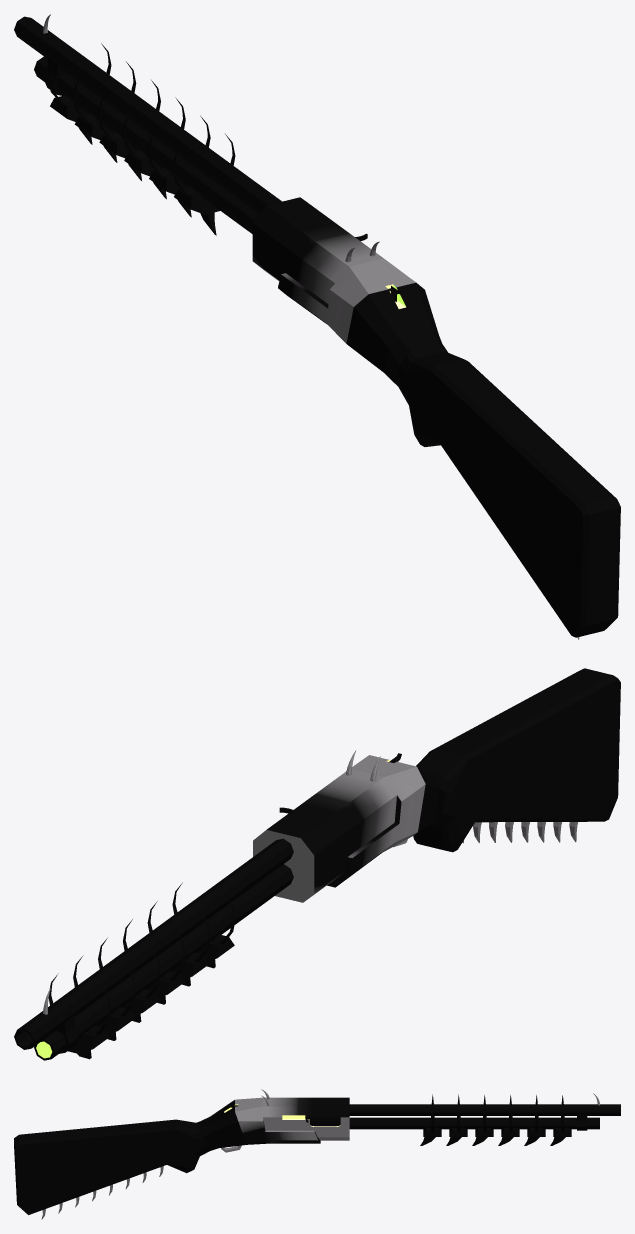
File: SnakeShotgun 1.fbx
The picture shows the model from 3 angles, top to bottom: view 1: azimuth 30°, elevation 25°; view 2: azimuth 150°, elevation 25°; view 3: azimuth 270°, elevation 25°; orthographic projection. The views are drawn at different scales.
Visible parts, largest first — view 1: Rack; view 2: Rack; view 3: Rack.
Boxes of the visible parts, bbox=[...] form: Rack: bbox=[14, 14, 620, 639]; Rack: bbox=[14, 668, 620, 1060]; Rack: bbox=[14, 1089, 620, 1219].
Bounding box in the file's own units: 261 × 757 × 3276.
